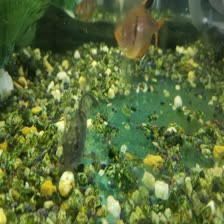Kiros: (44, 86, 118, 178)
Transparente: (109, 0, 157, 62)
